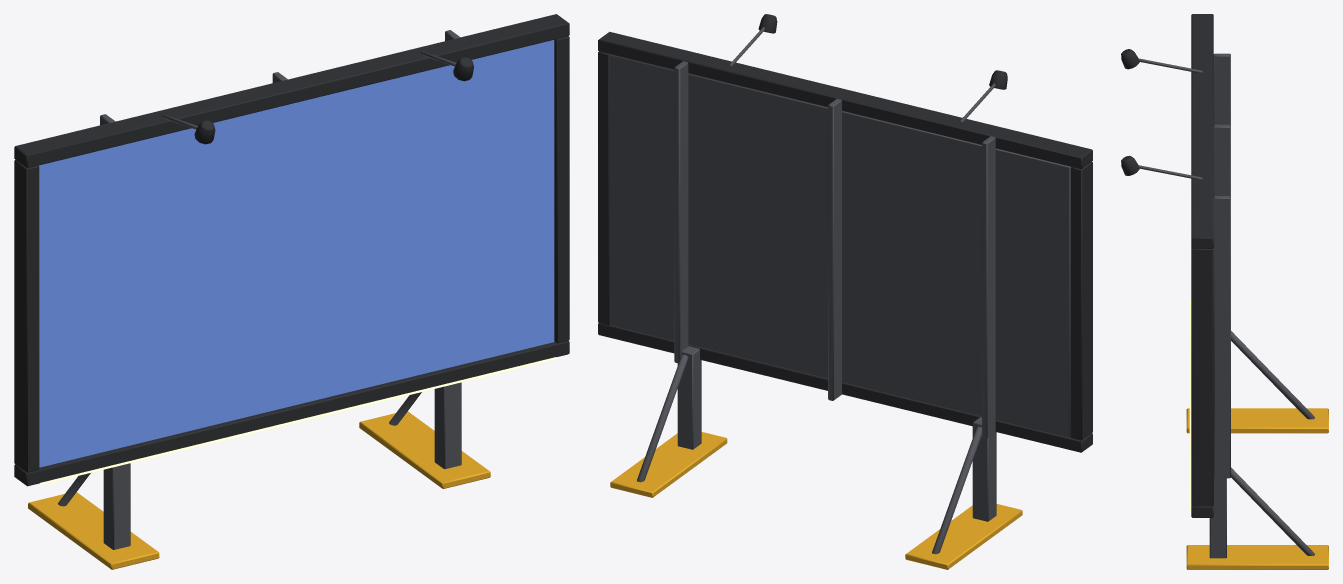
File: Ad_Billboard.glb
The picture shows the model from 3 angles, left to right: view 1: azimuth 30°, elevation 25°; view 2: azimuth 150°, elevation 25°; view 3: azimuth 270°, elevation 25°; orthographic projection. The views are drawn at different scales.
Visible parts, largest first — view 1: Ad_Billboard; view 2: Ad_Billboard; view 3: Ad_Billboard.
Boxes of the visible parts, left/top/right/bottom form: Ad_Billboard: left=14, top=14, right=569, bottom=569; Ad_Billboard: left=598, top=14, right=1092, bottom=569; Ad_Billboard: left=1121, top=14, right=1328, bottom=569.
Bounding box in the file's own units: 6.72 × 5.43 × 2.63.
